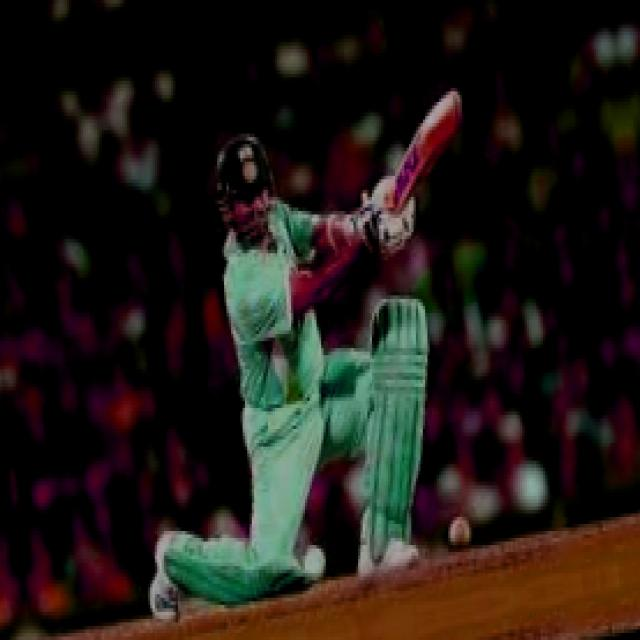toe: (426, 95, 461, 144)
